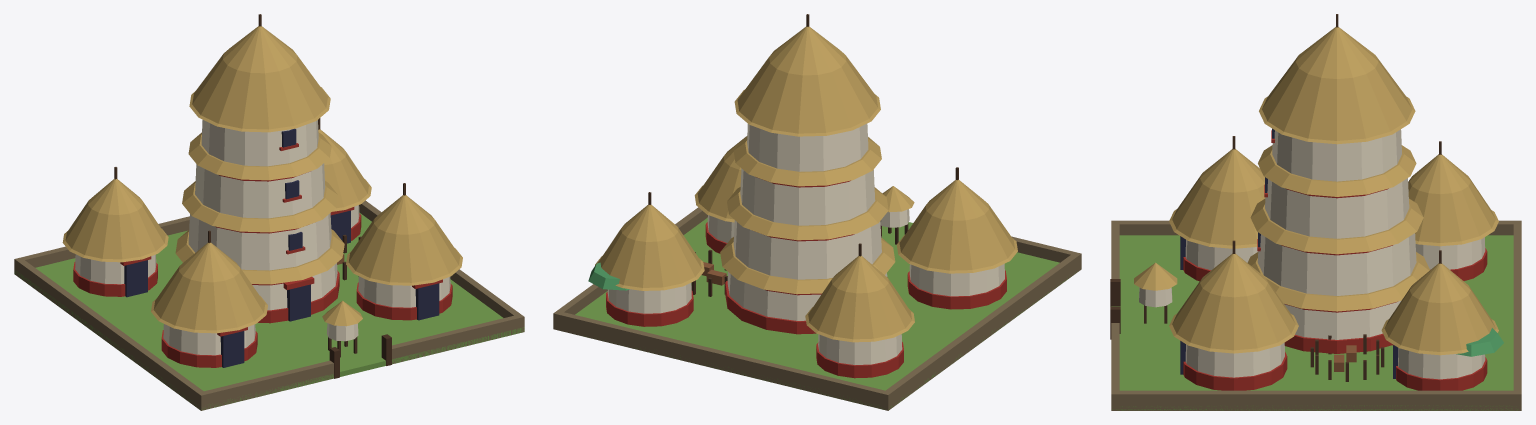
The model's file is house-2x2-4f-rondavel-a-solar.glb.
The picture shows the model from 3 angles, left to right: view 1: azimuth 30°, elevation 25°; view 2: azimuth 150°, elevation 25°; view 3: azimuth 270°, elevation 25°; orthographic projection. The views are drawn at different scales.
Visible parts, largest first — view 1: house-2x2-4f-rondavel-a-solar; view 2: house-2x2-4f-rondavel-a-solar; view 3: house-2x2-4f-rondavel-a-solar.
Part boxes in pixels (left/top/right/bottom): house-2x2-4f-rondavel-a-solar: left=14, top=14, right=524, bottom=410; house-2x2-4f-rondavel-a-solar: left=553, top=14, right=1081, bottom=410; house-2x2-4f-rondavel-a-solar: left=1110, top=14, right=1521, bottom=410.
Bounding box in the file's own units: 1.99 × 1.66 × 2.
1 material, 1 textured.
